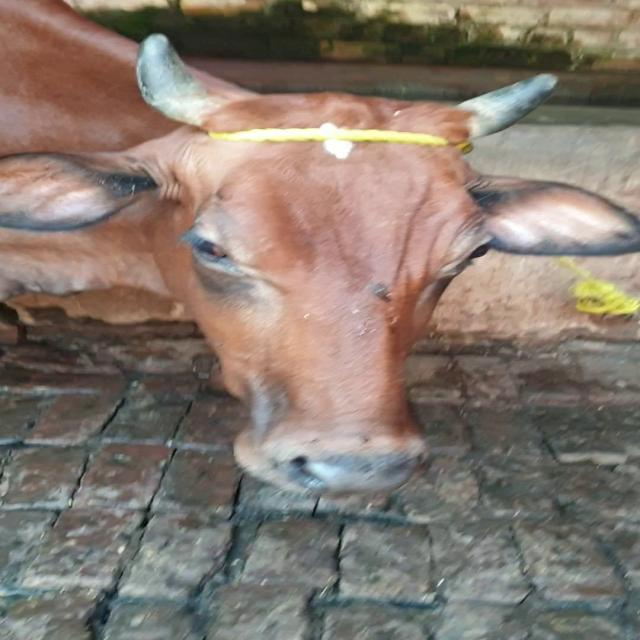cowFace: (145, 79, 468, 492)
